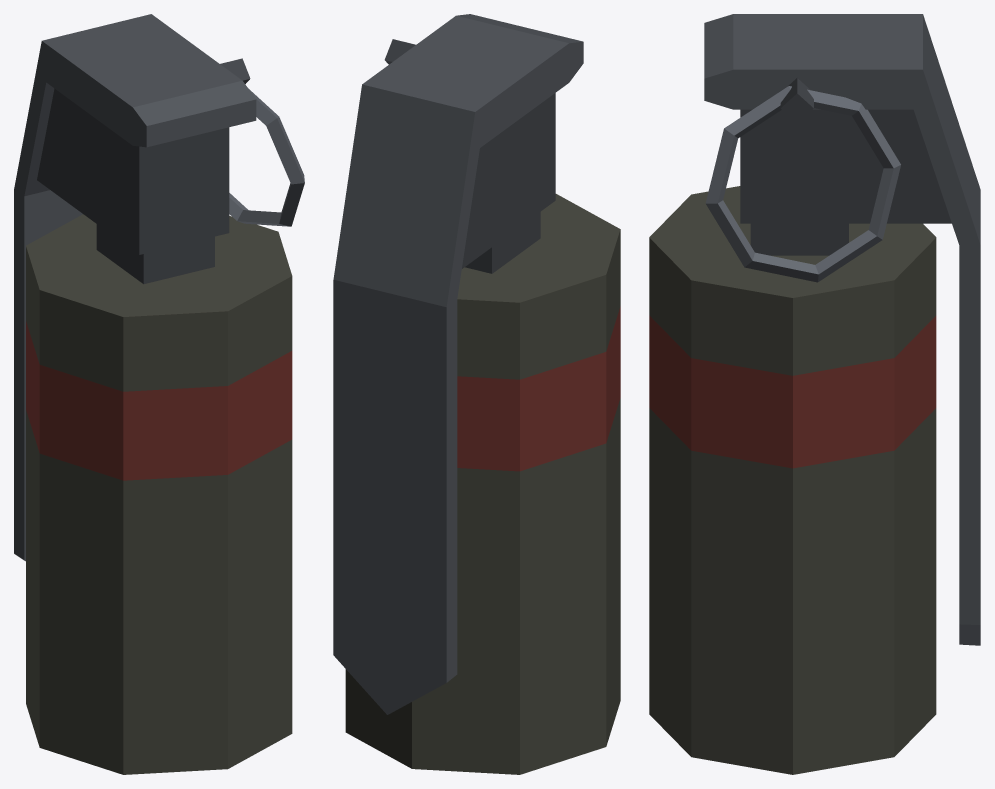
Rendered from SM_Wep_Grenade_Smoke_01.fbx.
The picture shows the model from 3 angles, left to right: view 1: azimuth 30°, elevation 25°; view 2: azimuth 150°, elevation 25°; view 3: azimuth 270°, elevation 25°; orthographic projection. The views are drawn at different scales.
Parts seen in each view (by area): view 1: SM_Wep_Grenade_Smoke_01, _SK_Wep_Grenade_Clip_01, _SK_Wep_Grenade_Pin_01; view 2: SM_Wep_Grenade_Smoke_01, _SK_Wep_Grenade_Clip_01; view 3: SM_Wep_Grenade_Smoke_01, _SK_Wep_Grenade_Clip_01, _SK_Wep_Grenade_Pin_01.
Part boxes in pixels (x1,y1,x2,y2): SM_Wep_Grenade_Smoke_01: (26,88,292,774); _SK_Wep_Grenade_Clip_01: (14,14,256,561); _SK_Wep_Grenade_Pin_01: (220,58,304,226); SM_Wep_Grenade_Smoke_01: (345,93,620,774); _SK_Wep_Grenade_Clip_01: (333,14,583,714); SM_Wep_Grenade_Smoke_01: (649,109,951,774); _SK_Wep_Grenade_Clip_01: (704,14,980,645); _SK_Wep_Grenade_Pin_01: (705,78,900,282).
Size of the model in its own units: 6.47 by 16.7 by 7.46.
